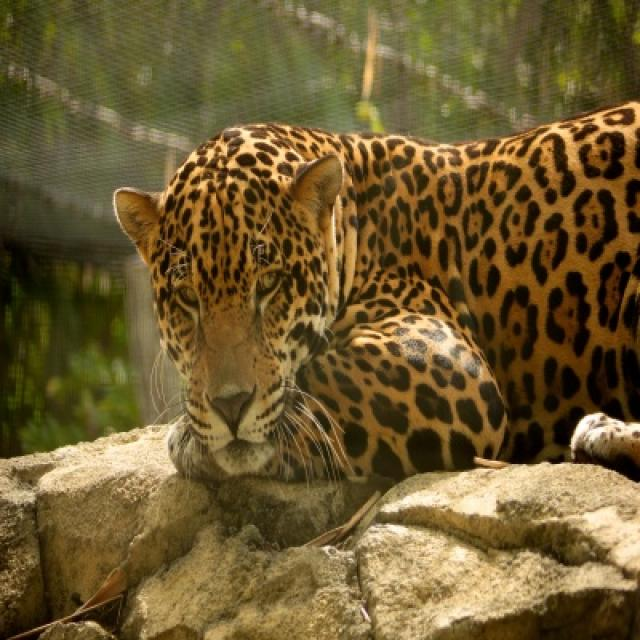Jaguar: (112, 101, 638, 496)
